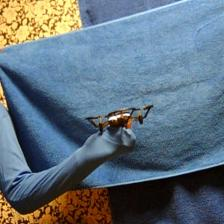drone: (86, 103, 155, 134)
